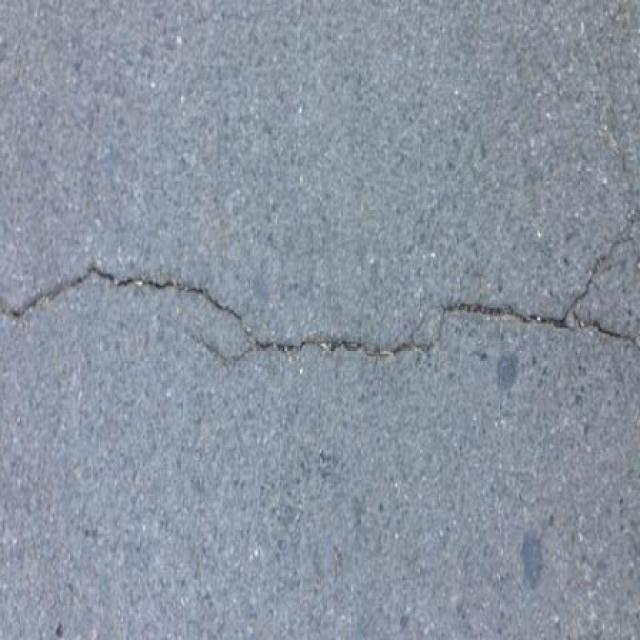horizontal crack: (15, 202, 637, 393)
